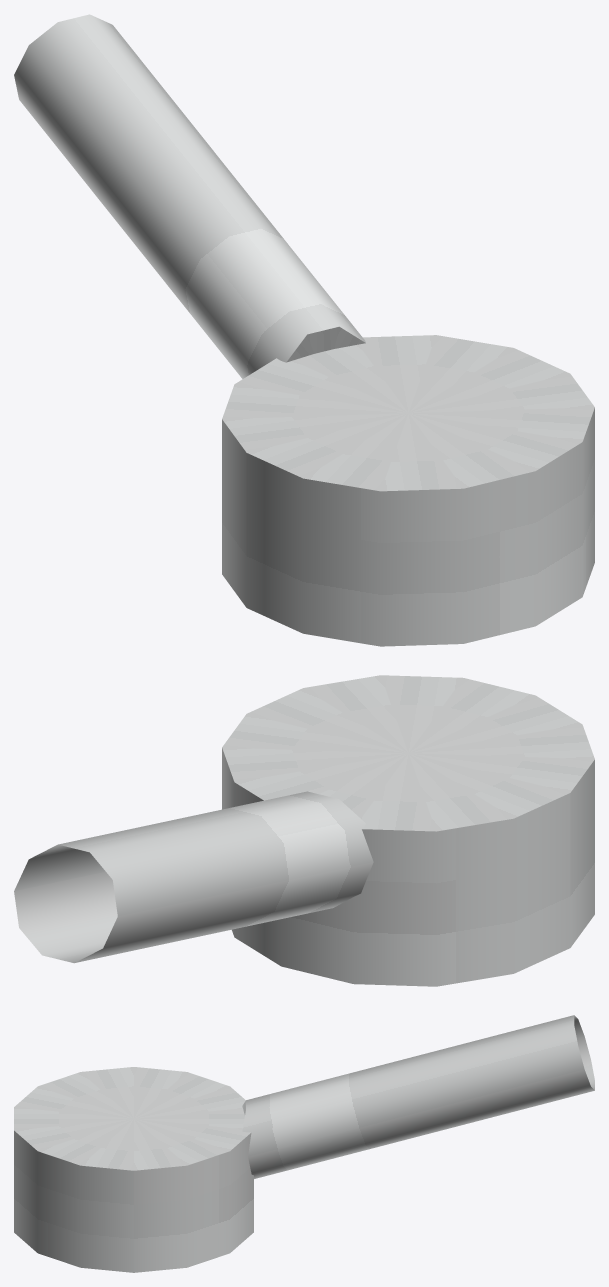
Rendered from trusssignalarm_sloped8_c1.obj.
3 views of the same model, one above another, from view 1: azimuth 30°, elevation 25°; view 2: azimuth 150°, elevation 25°; view 3: azimuth 270°, elevation 25° (orthographic). The views are drawn at different scales.
Parts seen in each view (by area): view 1: trusssignalarm_sloped8_c1; view 2: trusssignalarm_sloped8_c1; view 3: trusssignalarm_sloped8_c1.
Boxes of the visible parts, x1,y1,x2,y2 form: trusssignalarm_sloped8_c1: (14,14,594,646); trusssignalarm_sloped8_c1: (14,675,594,986); trusssignalarm_sloped8_c1: (14,1015,594,1272).
Bounding box in the file's own units: 0.8188 × 0.7371 × 1.93.
